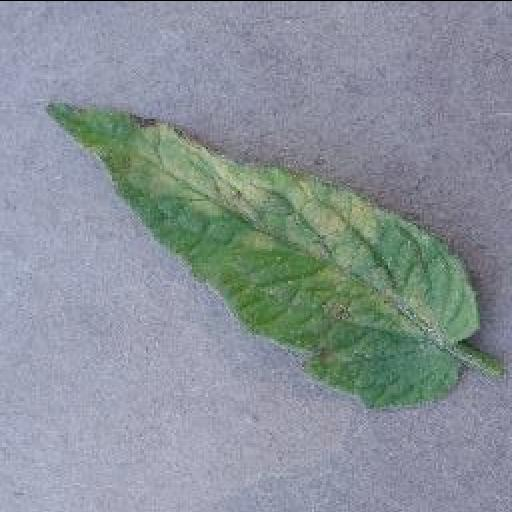disease_tomato: (42, 102, 476, 408)
